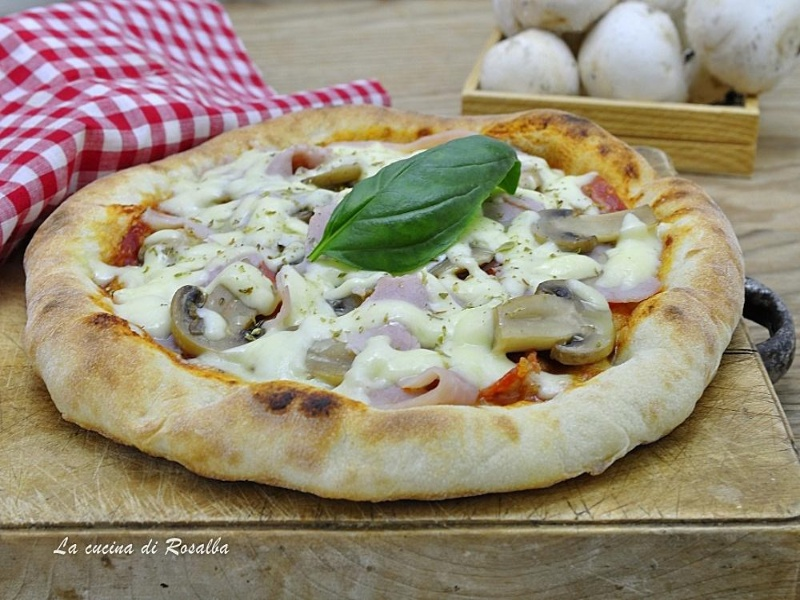champignon: (488, 276, 617, 372), (524, 198, 666, 259), (167, 284, 262, 359)
